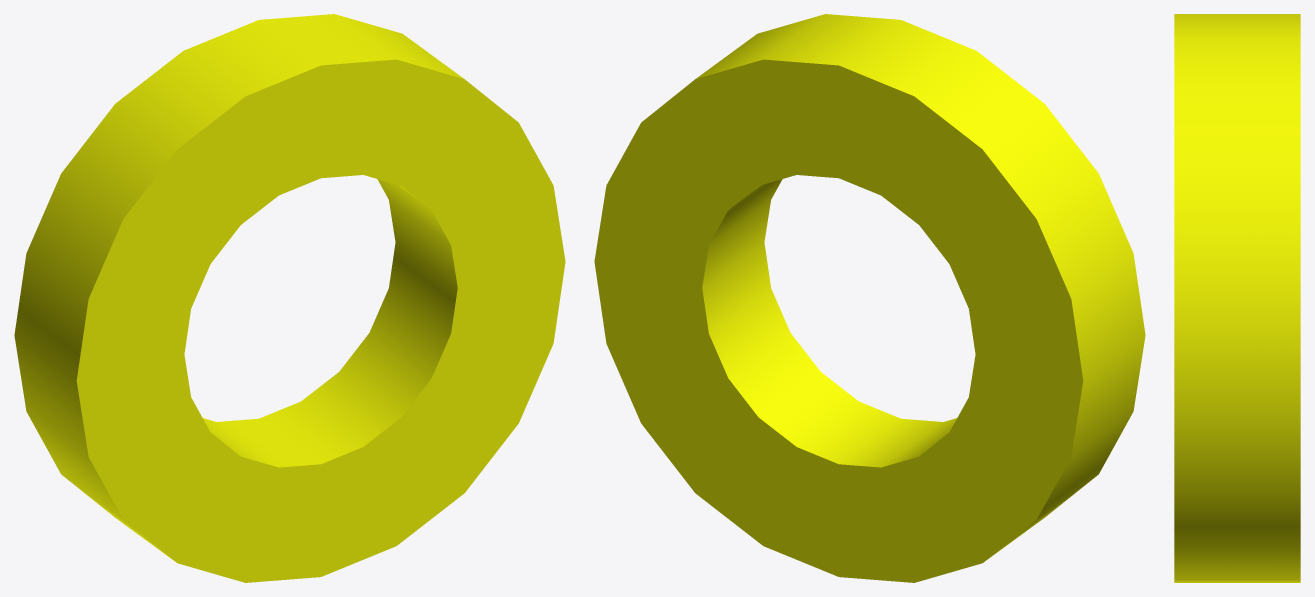
File: giro3.glb
The picture shows the model from 3 angles, left to right: view 1: azimuth 30°, elevation 25°; view 2: azimuth 150°, elevation 25°; view 3: azimuth 270°, elevation 25°; orthographic projection.
Size of the model in its own units: 4.06 by 4.06 by 0.8944.
